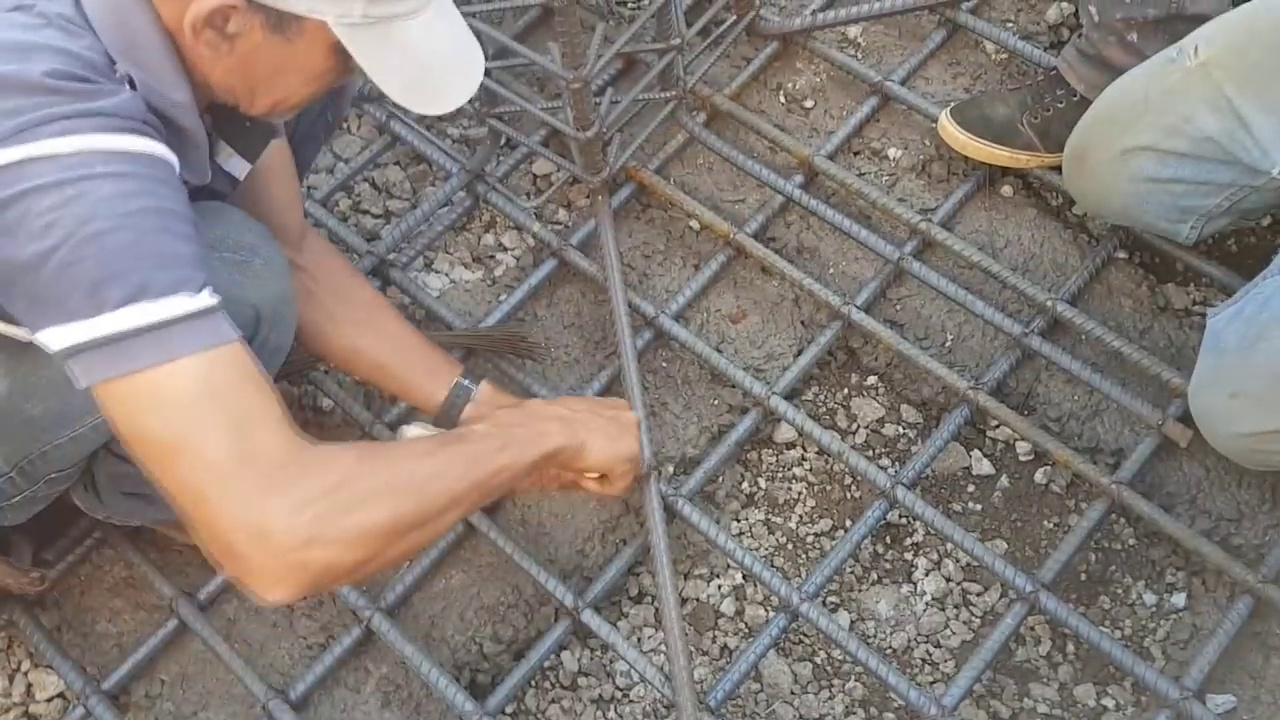person: (0, 6, 643, 600), (1058, 3, 1278, 472), (139, 0, 495, 141)
